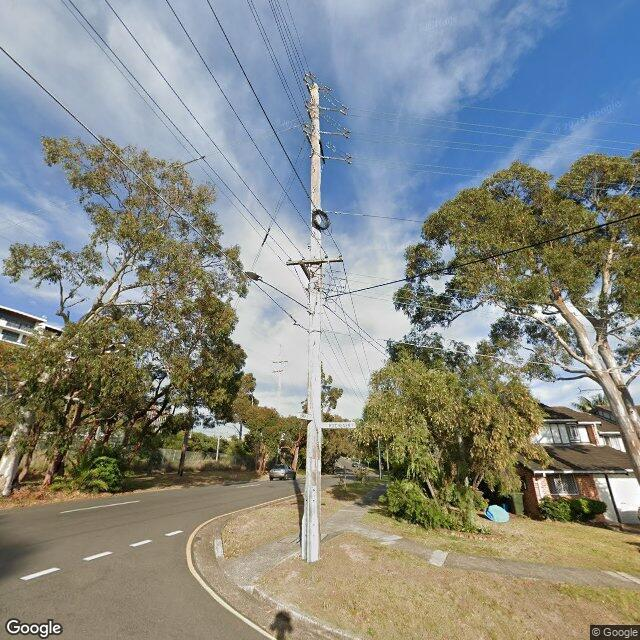HV-transmission: (302, 72, 352, 165)
crossarm: (285, 257, 344, 267), (272, 360, 288, 364), (273, 370, 284, 373)
streetlight: (245, 271, 315, 316)
timber-pole: (300, 84, 323, 562), (278, 344, 283, 416), (378, 442, 382, 481), (387, 447, 389, 476)
